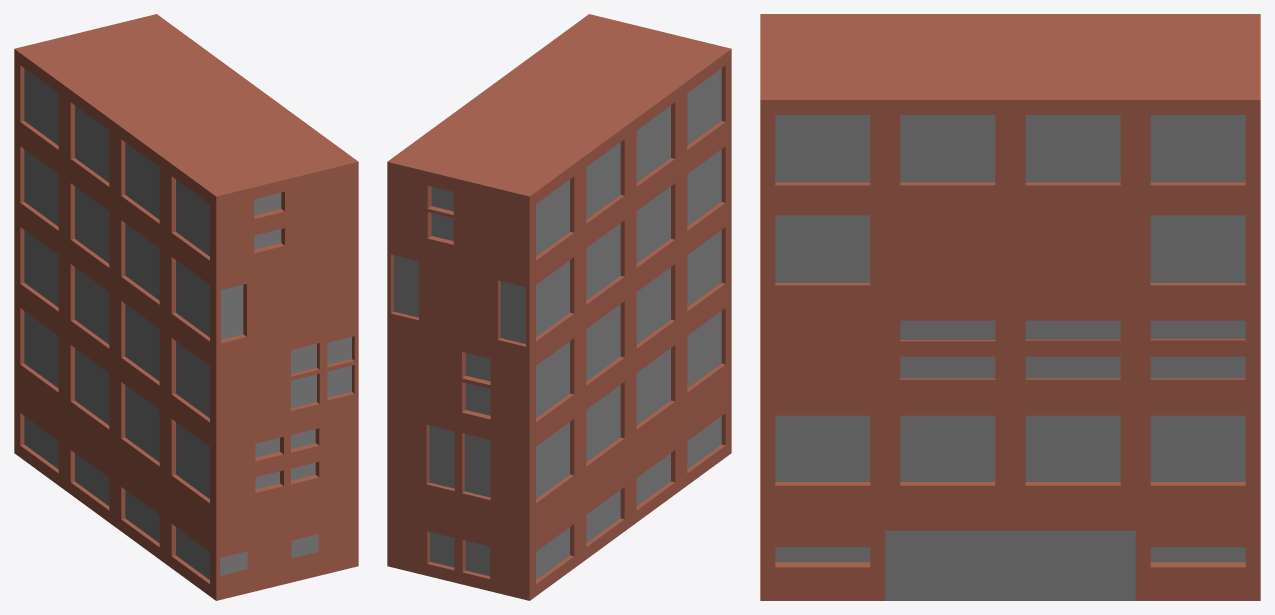
Rendered from buildingWide.fbx.
3 views of the same model, side by side, from view 1: azimuth 30°, elevation 25°; view 2: azimuth 150°, elevation 25°; view 3: azimuth 270°, elevation 25° (orthographic). The views are drawn at different scales.
Parts seen in each view (by area): view 1: buildingTallWide.003; view 2: buildingTallWide.003; view 3: buildingTallWide.003.
Boxes of the visible parts, x1,y1,x2,y2 form: buildingTallWide.003: [14, 14, 358, 600]; buildingTallWide.003: [387, 14, 731, 600]; buildingTallWide.003: [760, 14, 1260, 600].
Bounding box in the file's own units: 1521 × 4124 × 3733.
2 materials, 2 textured.
